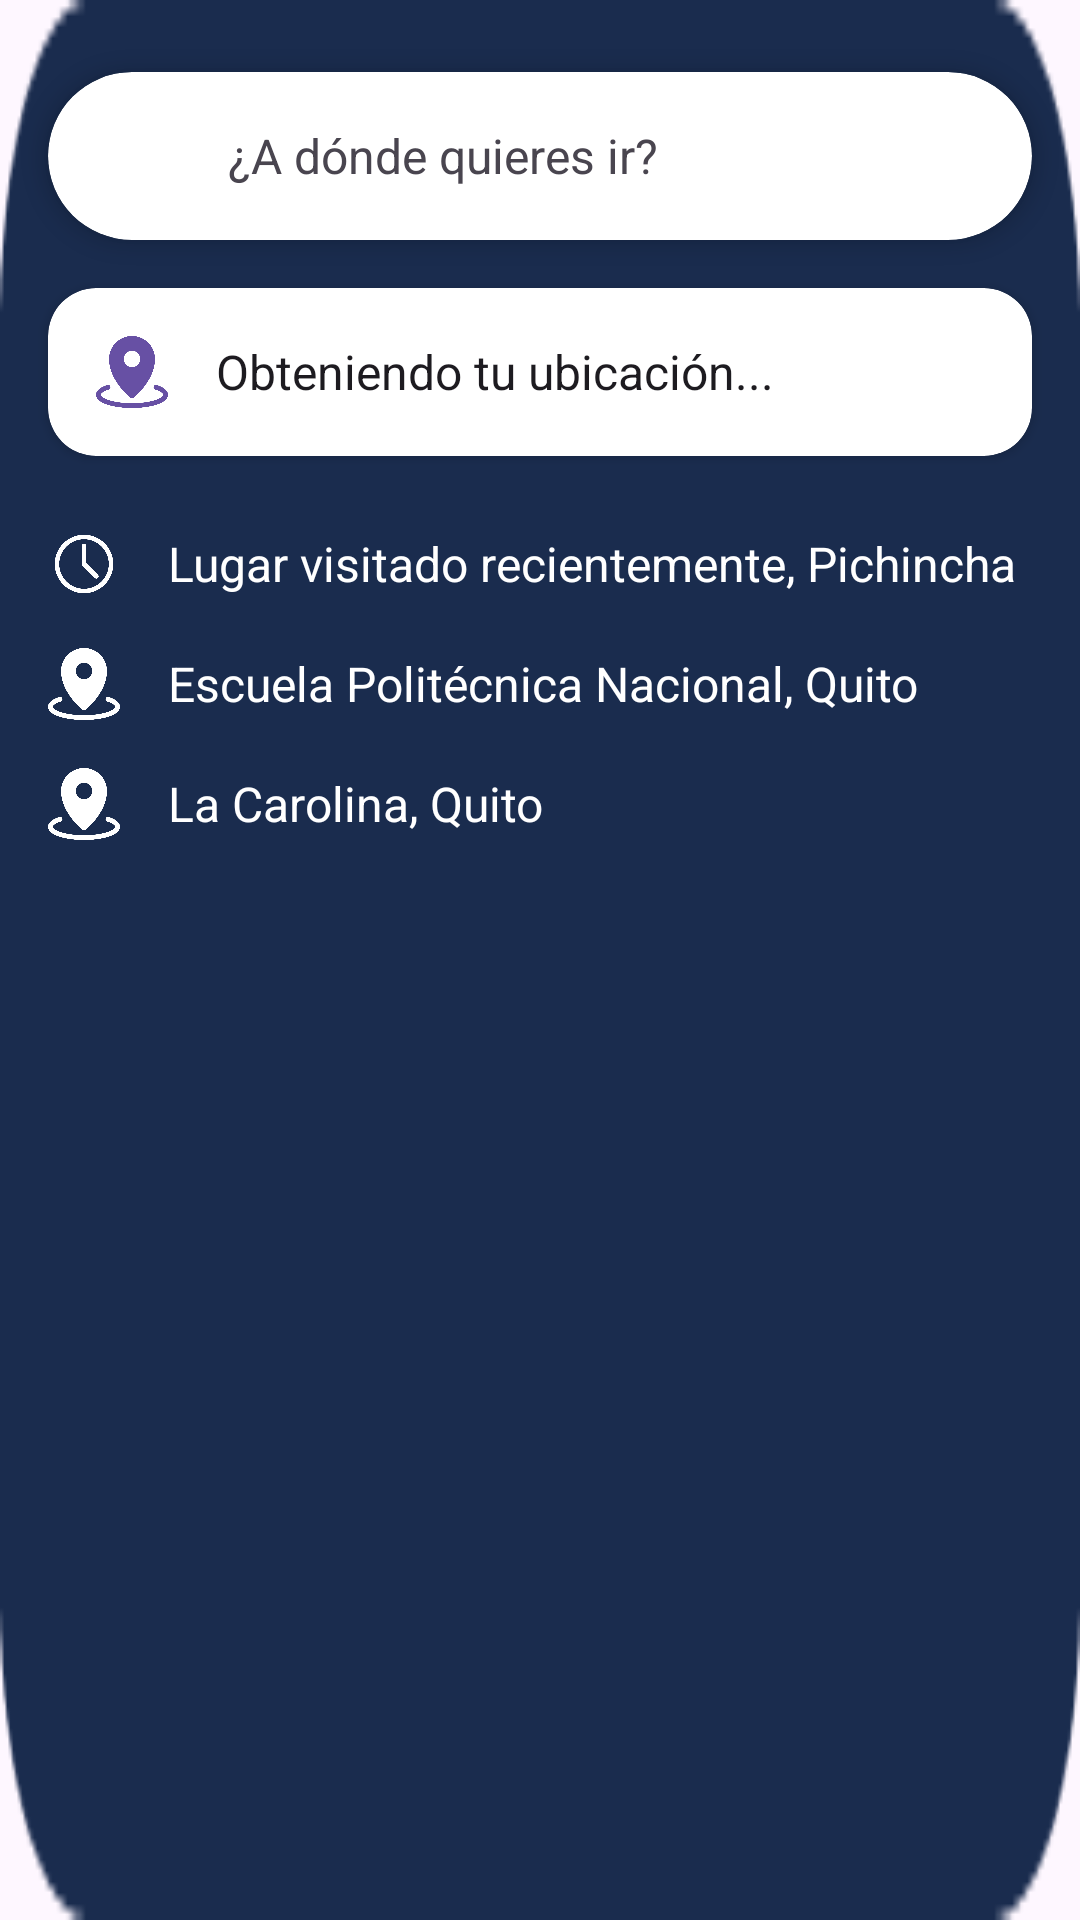

Point at icon controls on the screen. Image size 1080 × 1920, points as (x,y).
pin: (132,372), (84,684), (84,804)
reloj: (84,564)
